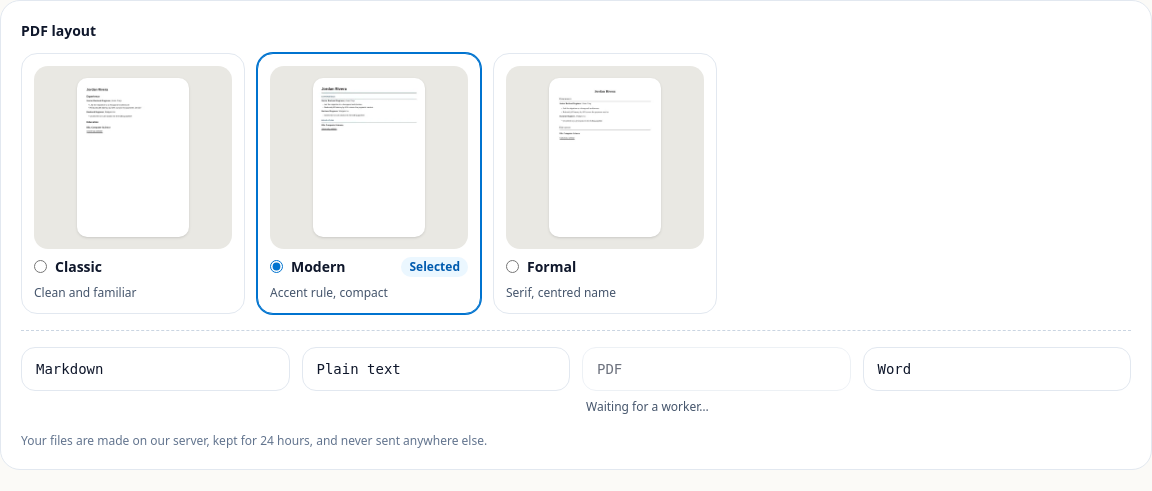
Test case: AC-31 — the PDF control follows the selected layout › switching layout shows each layout's own state and never POSTs, cancels or hides another's
Expected: the text "Waiting for a worker…" is shown, [586,398,709,415]
Expected: the radio button labelled "Modern Selected Accent rule, compact" is checked, [270,260,283,273]
Click the radio button labelled "Formal Serif, centred name": (512, 267) [506,260,519,273]
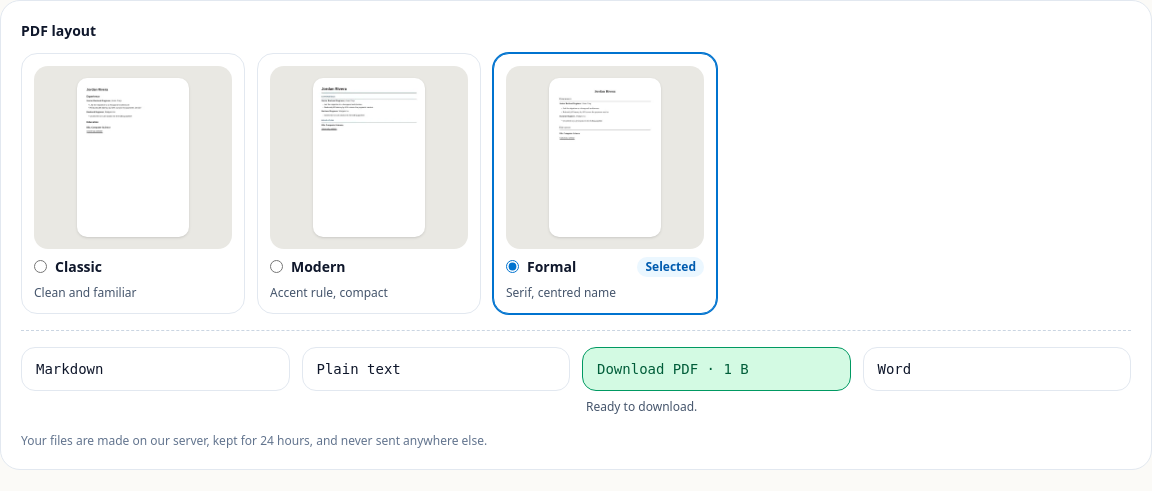
Expected: the button with aria-label "Download PDF — Formal layout" is shown, [582,347,850,391]
Now the text "Waiting for a worker…" is gone
Click the radio button labelled "Classic Clean and familiar": (40, 267) [34,260,47,273]
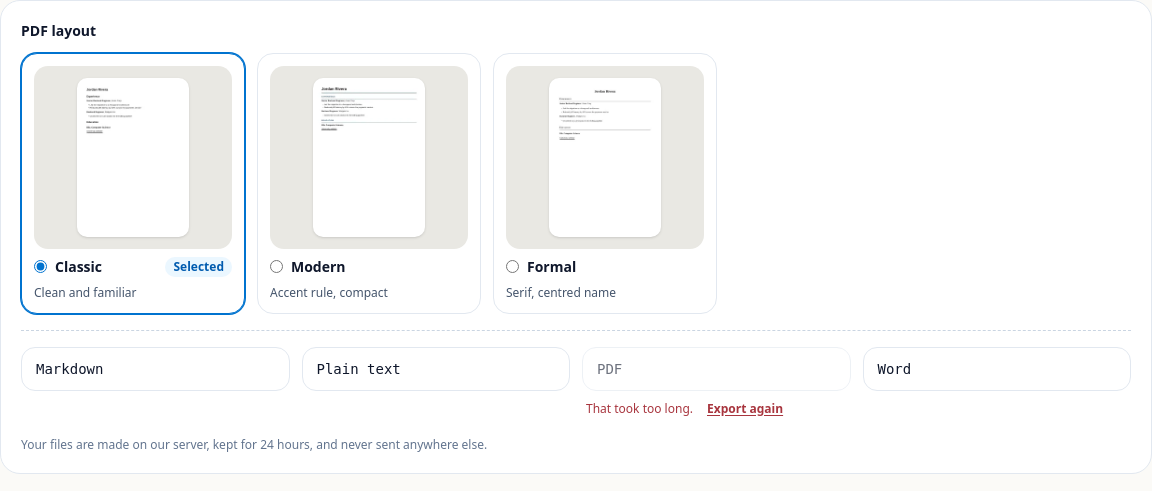
Now the text "That took too long." is shown, box [586,400,693,417]
Click the radio button labelled "Modern Accent rule, compact": (276, 267) [270,260,283,273]
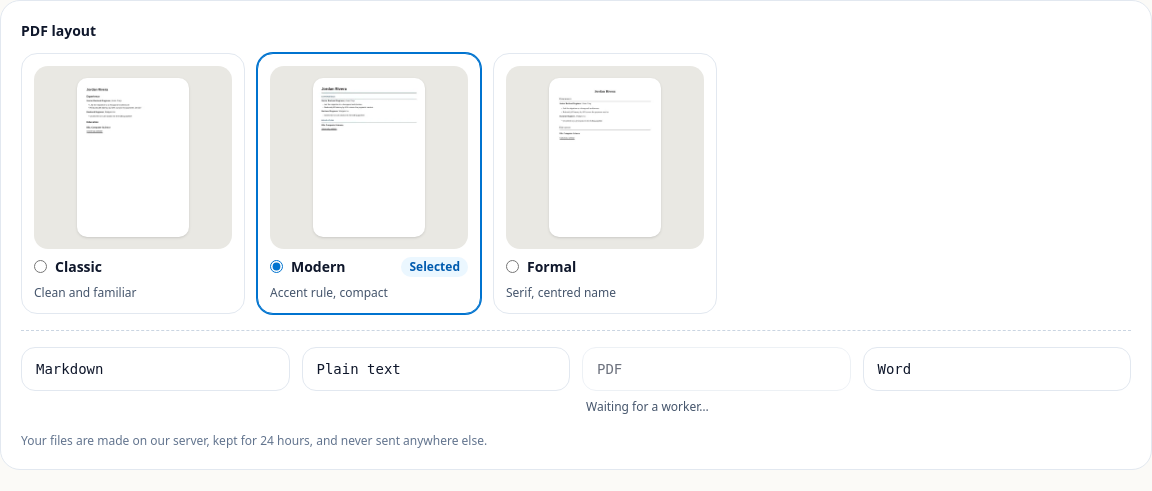
Now the button "PDF" is disabled, box [582,347,850,391]
Now the text "Waiting for a worker…" is shown, box [586,398,709,415]
